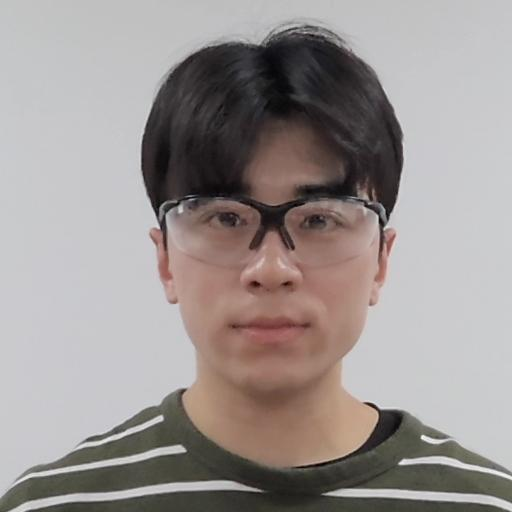glasses: (126, 18, 423, 401)
